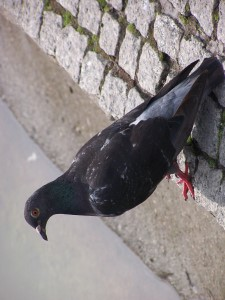pigeon: (21, 54, 223, 242)
